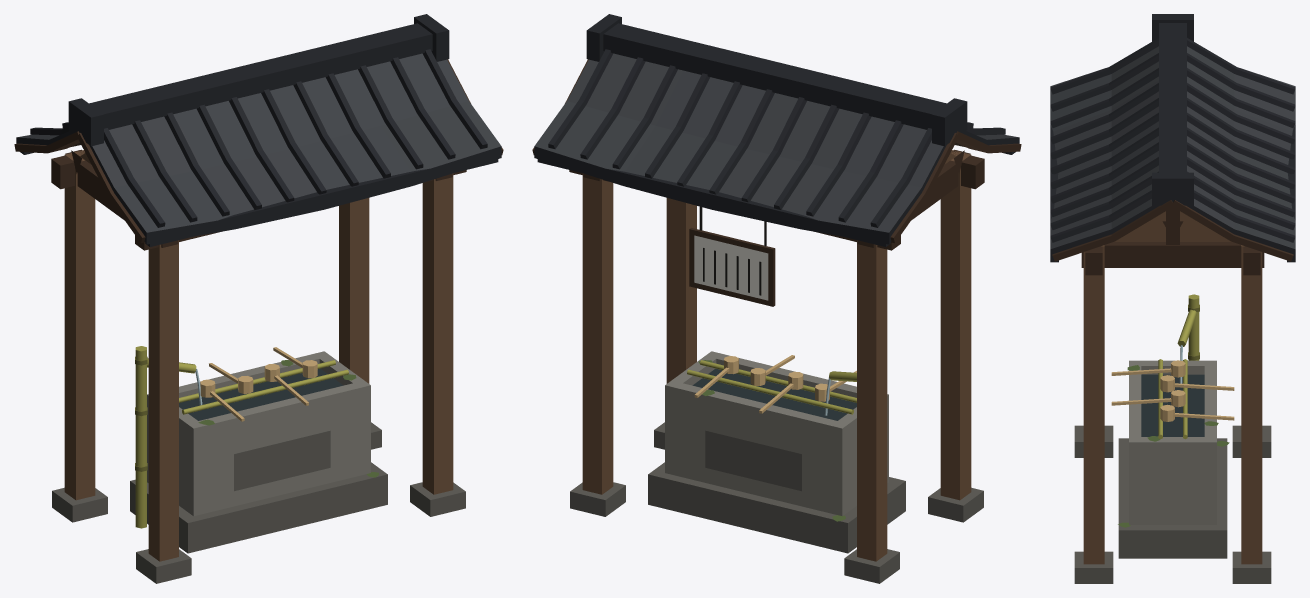
The model's file is chozuya.glb.
3 renders of one model, left to right at view 1: azimuth 30°, elevation 25°; view 2: azimuth 150°, elevation 25°; view 3: azimuth 270°, elevation 25°, orthographic. The views are drawn at different scales.
Parts seen in each view (by area): view 1: chozuya; view 2: chozuya; view 3: chozuya.
Boxes of the visible parts, x1,y1,x2,y2 form: chozuya: [14, 14, 503, 583]; chozuya: [532, 14, 1021, 583]; chozuya: [1050, 14, 1295, 583].
Bounding box in the file's own units: 2.26 × 2.62 × 1.4.
